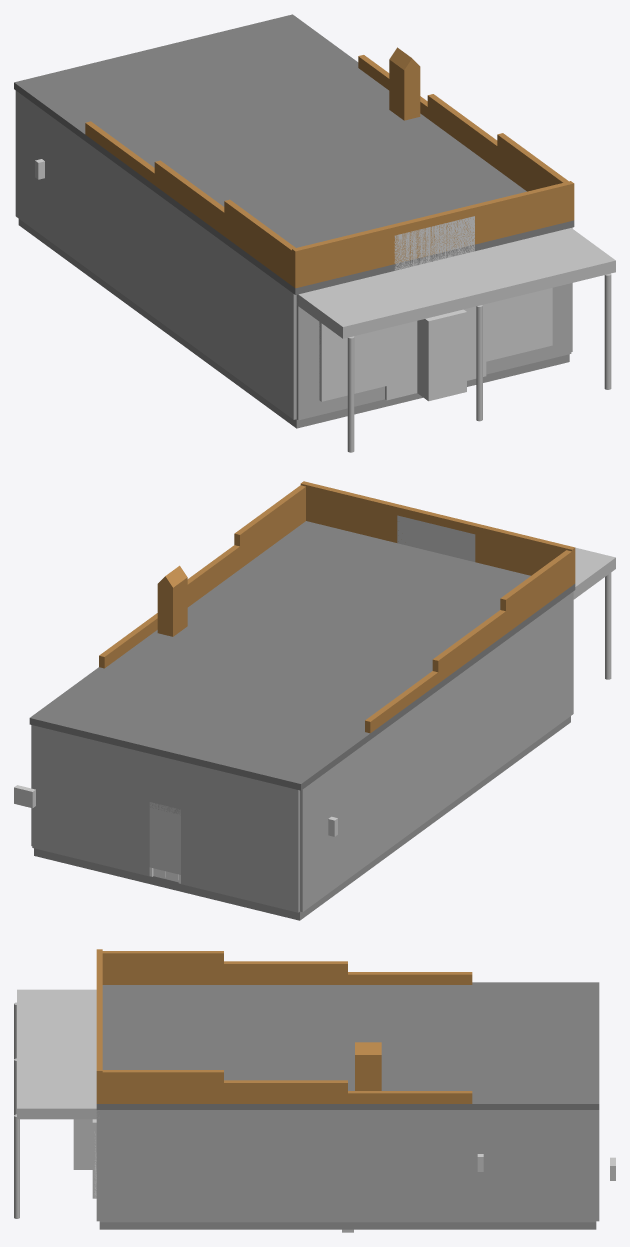
The model's file is building_phase_1c_iter_002.glb.
The picture shows the model from 3 angles, top to bottom: view 1: azimuth 30°, elevation 25°; view 2: azimuth 150°, elevation 25°; view 3: azimuth 270°, elevation 25°; orthographic projection. The views are drawn at different scales.
Visible parts, largest first — view 1: Roof, Wall_Left, Canopy_Roof, Parapet_Front, Wall_Front, Foundation, front_entry_door_Cutter, front_left_display_window_Cutter, front_right_display_window_Cutter, front_entry_door_Cutter.006, Cutter_front_alcove_opening.001, Parapet_Left_Level_1 (+16 smaller); view 2: Roof, Wall_Left, Wall_Rear, Parapet_Front, Foundation, Parapet_Left_Level_1, Parapet_Right_Level_1, Cutter_front_alcove_opening.001, rear_service_door_Cutter, Parapet_Left_Level_2, Chimney, Parapet_Right_Level_2 (+4 smaller); view 3: Wall_Right, Roof, Canopy_Roof, Parapet_Right_Level_1, Parapet_Left_Level_1, Foundation, Parapet_Left_Level_2, Parapet_Right_Level_2, Parapet_Left_Level_3, Parapet_Right_Level_3, Parapet_Front, front_entry_door_Cutter.006 (+4 smaller).
Part boxes in pixels (x1,y1,x2,y2): Roof: (14,14,574,294); Wall_Left: (15,90,296,419); Canopy_Roof: (296,228,615,338); Parapet_Front: (292,181,574,288); Wall_Front: (296,283,571,420); Foundation: (18,219,569,428); front_entry_door_Cutter: (417,309,466,391); front_left_display_window_Cutter: (319,322,392,392); front_right_display_window_Cutter: (483,288,552,352); front_entry_door_Cutter.006: (417,322,466,401); Cutter_front_alcove_opening.001: (394,216,474,270); Parapet_Left_Level_1: (224,199,295,285); Roof: (29,521,575,790); Wall_Left: (300,591,573,912); Wall_Rear: (32,725,299,912); Parapet_Front: (300,481,575,585); Foundation: (34,716,570,920); Parapet_Left_Level_1: (500,550,571,633); Parapet_Right_Level_1: (234,485,305,568); Cutter_front_alcove_opening.001: (397,515,475,561); rear_service_door_Cutter: (149,802,180,874); Parapet_Left_Level_2: (432,610,505,683); Chimney: (157,577,187,636); Parapet_Right_Level_2: (187,545,239,607); Wall_Right: (99,1110,596,1222); Roof: (96,982,599,1109); Canopy_Roof: (17,989,99,1119); Parapet_Right_Level_1: (99,1070,223,1103); Parapet_Left_Level_1: (102,951,223,984); Foundation: (99,1222,596,1229); Parapet_Left_Level_2: (224,961,347,984); Parapet_Right_Level_2: (224,1080,347,1103); Parapet_Left_Level_3: (348,972,472,984); Parapet_Right_Level_3: (348,1091,472,1103); Parapet_Front: (96,949,102,1103); front_entry_door_Cutter.006: (73,1119,92,1169).
Bounding box in the file's own units: 9.1 × 7.52 × 18.18.
